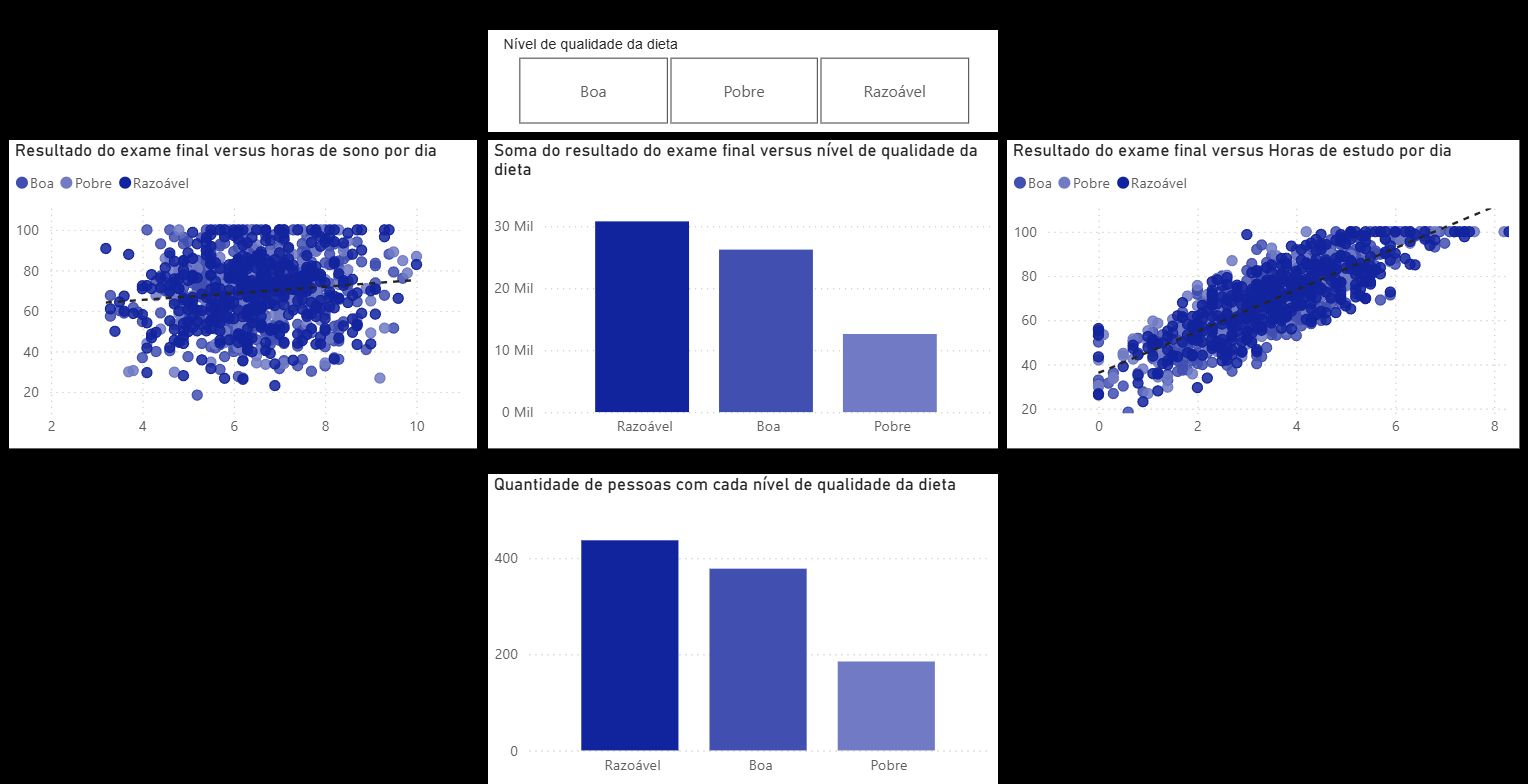

This screenshot's page, from the dashboard's own definition file:
{"tool":"powerbi","page":{"name":"Os 3 Pilares do Aprendizado","canvas":[1280,720],"ordinal":0},"visuals":[{"type":"scatterChart","title":"Resultado do exame final versus horas de sono por dia","fields":{"X":["dados_trabalhados.Horas de sono por dia"],"Y":["dados_trabalhados.Resultado do exame final"],"Series":["dados_trabalhados.Nível de qualidade da dieta"]},"box":[9,118.5,389.6,256.8],"z":0},{"type":"clusteredColumnChart","title":"Soma do resultado do exame final versus nível de qualidade da dieta","fields":{"Category":["dados_trabalhados.Nível de qualidade da dieta"],"Y":["Sum(dados_trabalhados.Resultado do exame final)"]},"box":[408.5,118.5,424.6,256.8],"z":1000},{"type":"scatterChart","title":"Resultado do exame final versus Horas de estudo por dia","fields":{"Y":["dados_trabalhados.Resultado do exame final"],"X":["dados_trabalhados.Horas de estudo por dia"],"Series":["dados_trabalhados.Nível de qualidade da dieta"]},"box":[841.2,118.5,427.3,256.8],"z":2000},{"type":"clusteredColumnChart","title":"Quantidade de pessoas com cada nível de qualidade da dieta","fields":{"Category":["dados_trabalhados.Nível de qualidade da dieta"],"Y":["CountNonNull(dados_trabalhados.Horas de sono por dia)"]},"box":[408.5,396.8,424.6,260.3],"z":2001},{"type":"slicer","fields":{"Values":["dados_trabalhados.Nível de qualidade da dieta"]},"box":[408.5,26.9,424.6,85.3],"z":2002}]}

Visuals, with their boxes on the page's 1280x720 design canvas (x1, y1, x2, y2). These are canvas units, not pixel positions in the 1528x784 screenshot, which may show the page scaled, cropped or inside an application window:
"Resultado do exame final versus horas de sono por dia" scatterChart: 9,118,399,375
"Soma do resultado do exame final versus nível de qualidade da dieta" clusteredColumnChart: 408,118,833,375
"Resultado do exame final versus Horas de estudo por dia" scatterChart: 841,118,1268,375
"Quantidade de pessoas com cada nível de qualidade da dieta" clusteredColumnChart: 408,397,833,657
slicer - dados_trabalhados.Nível de qualidade da dieta: 408,27,833,112
